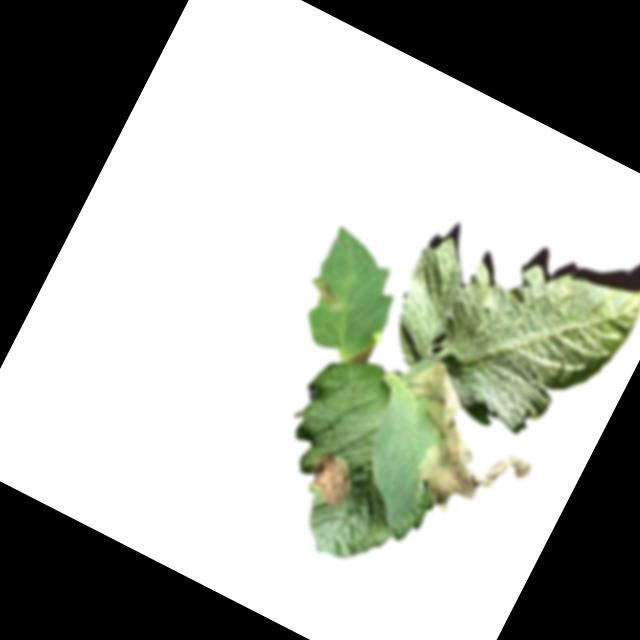Late_blight: (360, 352, 557, 541), (290, 442, 362, 513), (304, 275, 349, 313), (347, 336, 377, 370)
healthy: (361, 191, 640, 465)
